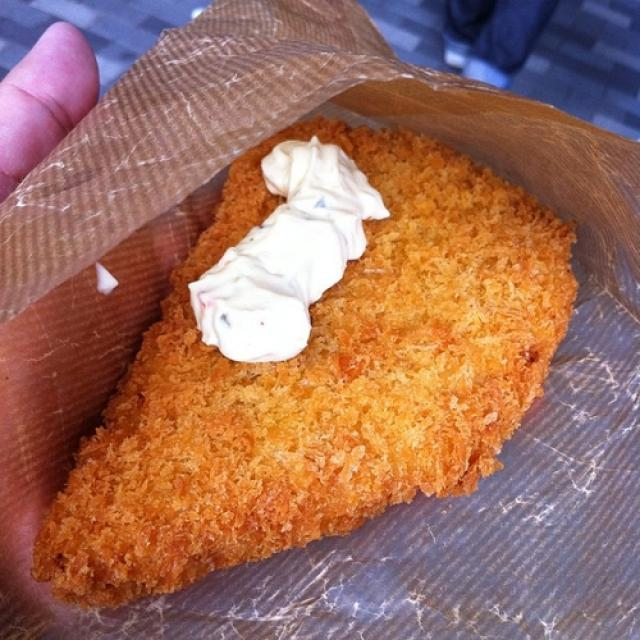鸡肉料理 含炸鸡: (41, 72, 577, 616)
